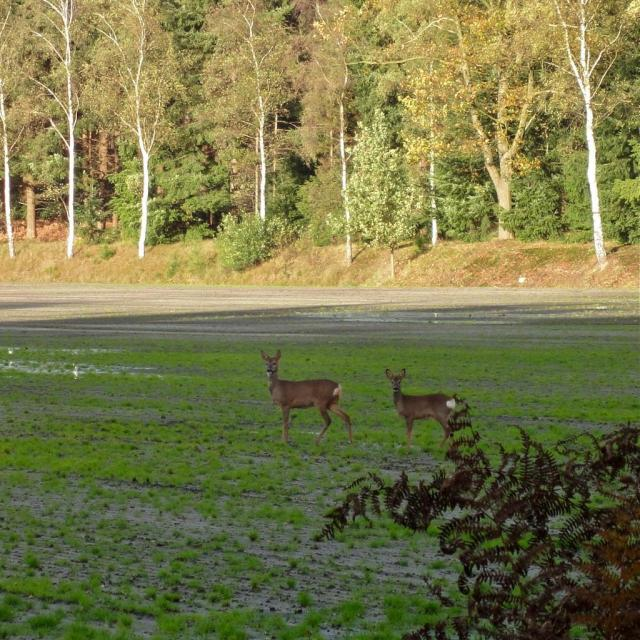Deer: (258, 352, 352, 450), (382, 368, 470, 456)
